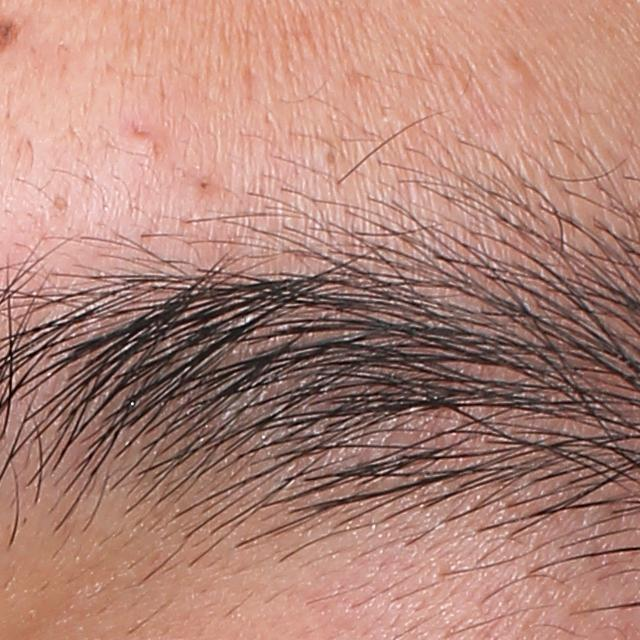comedo: (500, 58, 533, 87), (50, 192, 71, 215), (195, 176, 215, 194)
